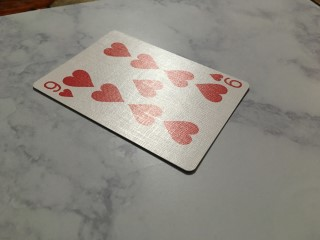NineOfHearts: (33, 30, 249, 171)
